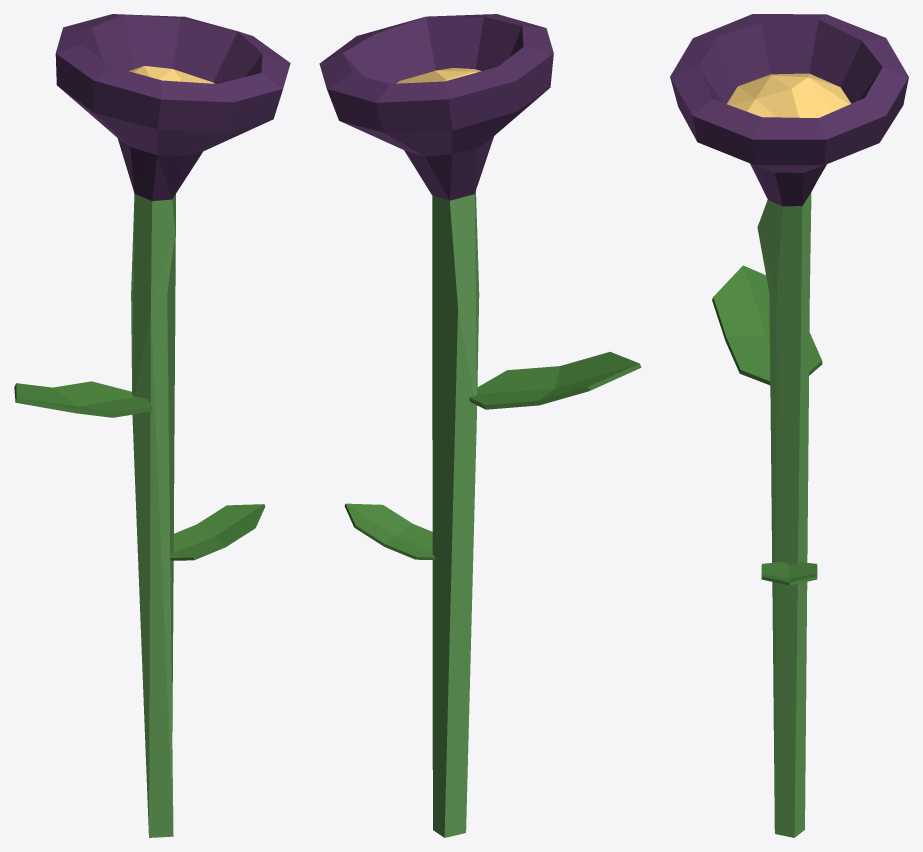
File: Flower_C.fbx
3 views of the same model, side by side, from view 1: azimuth 30°, elevation 25°; view 2: azimuth 150°, elevation 25°; view 3: azimuth 270°, elevation 25° (orthographic).
Visible parts, largest first — view 1: Flower_C; view 2: Flower_C; view 3: Flower_C.
Part boxes in pixels (x1,y1,x2,y2): Flower_C: [14, 14, 290, 837]; Flower_C: [319, 14, 641, 837]; Flower_C: [670, 14, 908, 837].
Size of the model in its own units: 7.66 by 20.71 by 5.74.
